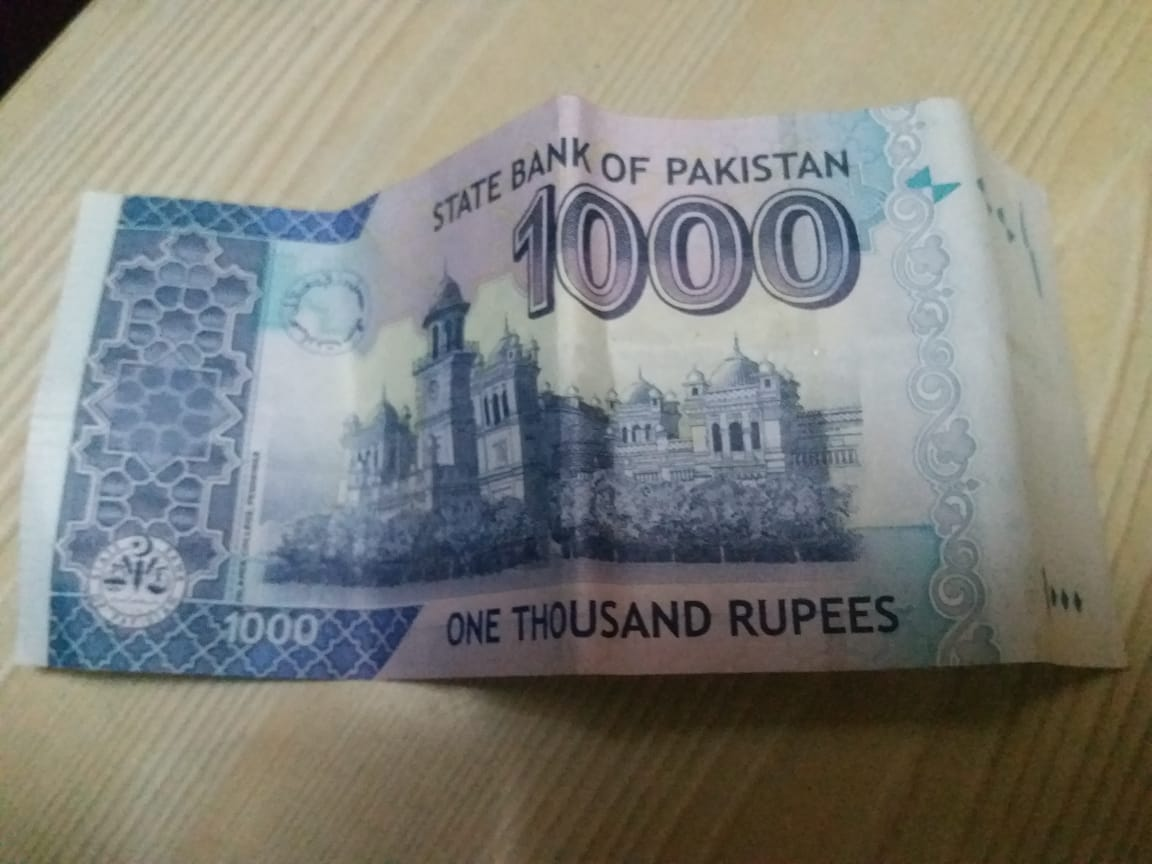1000 rupee: (0, 81, 1140, 761)
